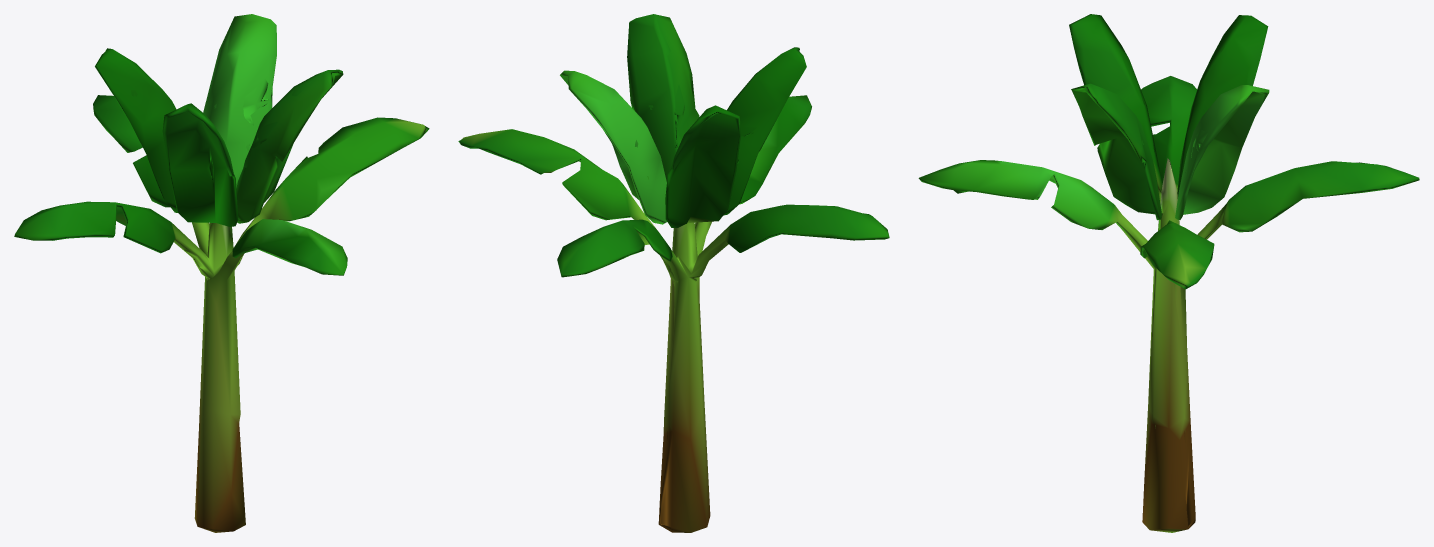
File: gen3d-banana-plant-lod1.glb
The picture shows the model from 3 angles, left to right: view 1: azimuth 30°, elevation 25°; view 2: azimuth 150°, elevation 25°; view 3: azimuth 270°, elevation 25°; orthographic projection. The views are drawn at different scales.
Parts seen in each view (by area): view 1: part_0; view 2: part_0; view 3: part_0.
Boxes of the visible parts, x1,y1,x2,y2 form: part_0: (14, 14, 429, 532); part_0: (458, 14, 889, 532); part_0: (918, 14, 1419, 532).
Size of the model in its own units: 0.9548 by 1 by 0.9585.
